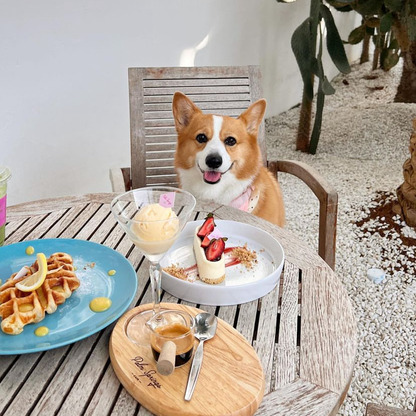Corgi: (157, 91, 300, 237)
